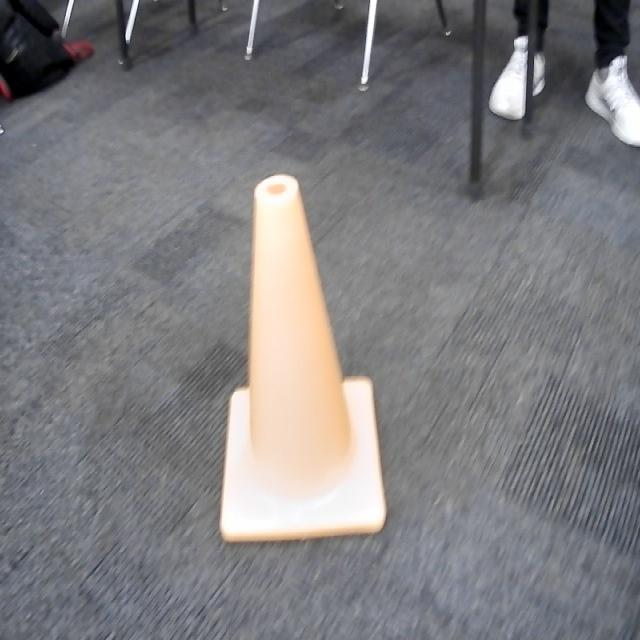cone: (220, 175, 385, 545)
